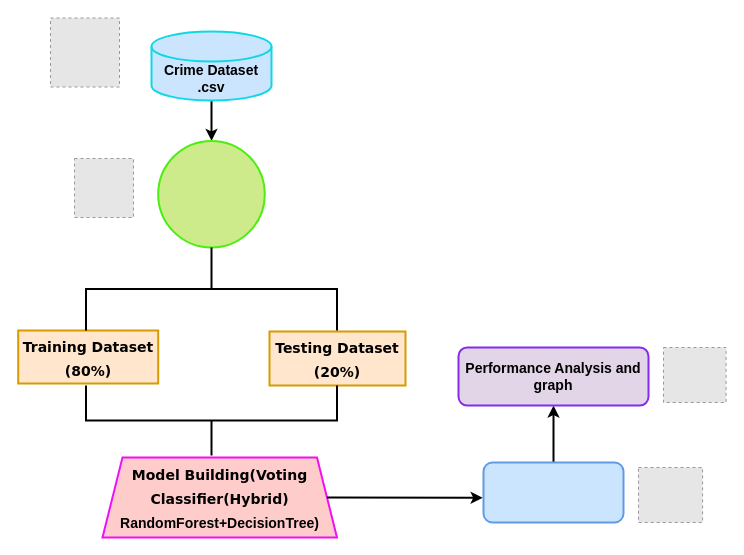
Some shapes in this 744 by 555 pixel diagram are drawn without their labels. Grey dashed boxes stand in for pictures. Each missing label, with the centre of its shape:
Predicted Results and Offense Type: pixel 553 492
Preprocessing and Feature S election: pixel 211 193
